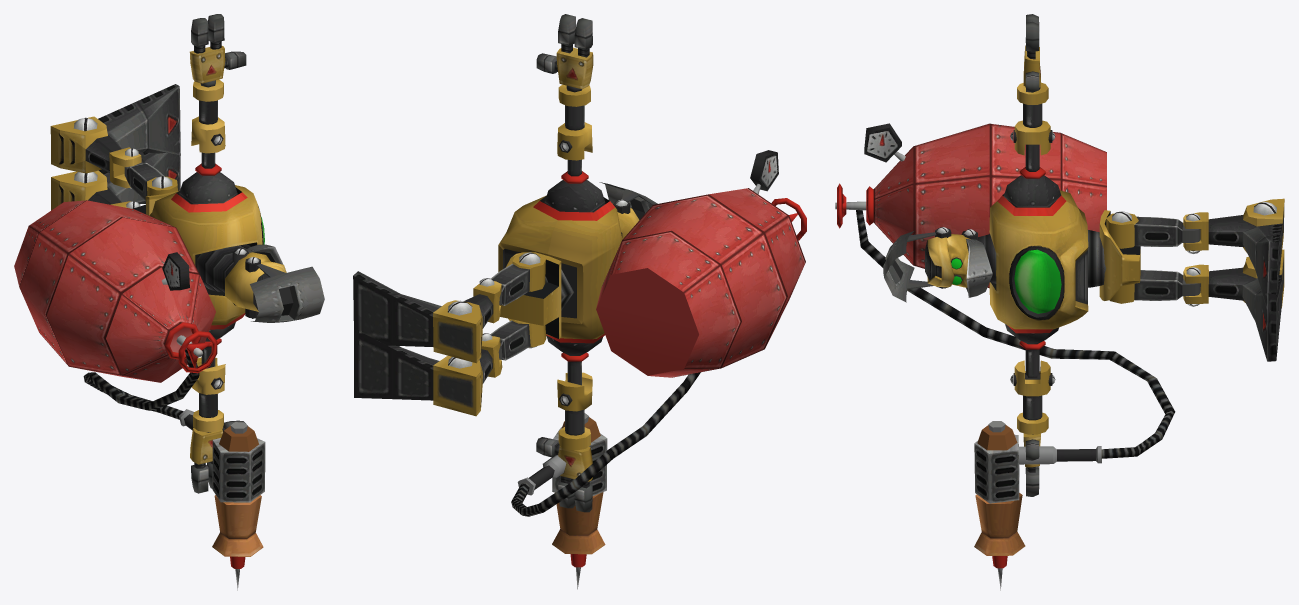
The model's file is Constructobot.obj.
3 renders of one model, left to right at view 1: azimuth 30°, elevation 25°; view 2: azimuth 150°, elevation 25°; view 3: azimuth 270°, elevation 25°, orthographic. The views are drawn at different scales.
Visible parts, largest first — view 1: 1e0; view 2: 1e0; view 3: 1e0.
Boxes of the visible parts, box(x1,y1,x2,y2) form: 1e0: box(14, 14, 324, 590); 1e0: box(353, 14, 806, 589); 1e0: box(835, 14, 1284, 590).
Bounding box in the file's own units: 12.62 × 24.9 × 17.99.
Materials: 1 (1 with a texture image).
